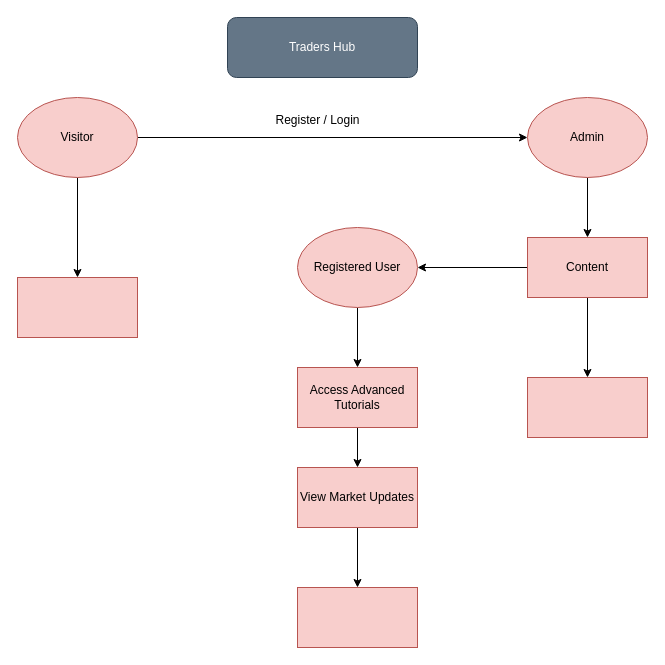
Image size: 665x665. Some labels were removed from this diagram. The shapes that lost their labels are listed below. From the top down, each one's centre as x and y in pixels, then its label:
the point at 77,307: View Basic Lessons
the point at 587,407: Users
the point at 357,617: Save Progress
